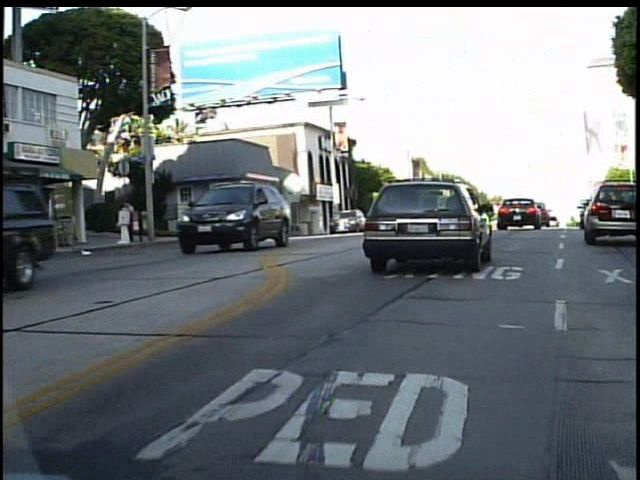person: (124, 197, 148, 244)
